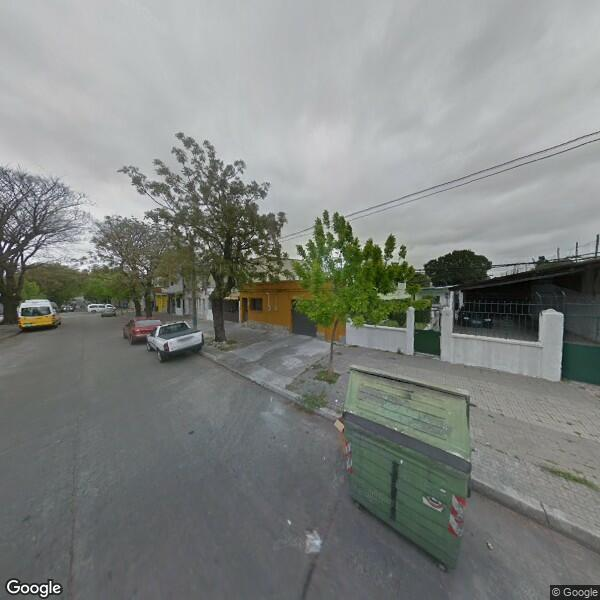Dechets: (330, 413, 344, 457)
Trash: (345, 362, 475, 566)
